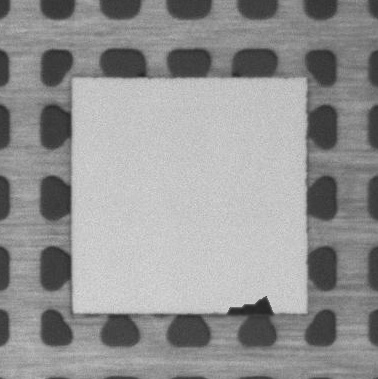DIE_BROKEN: (222, 296, 277, 319)
